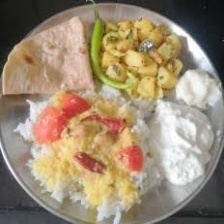rice: (12, 82, 167, 224)
